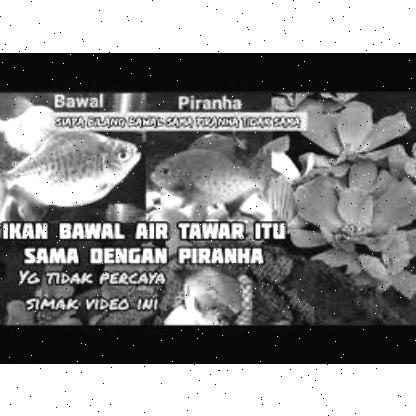ikan-pacu: (0, 127, 140, 211)
